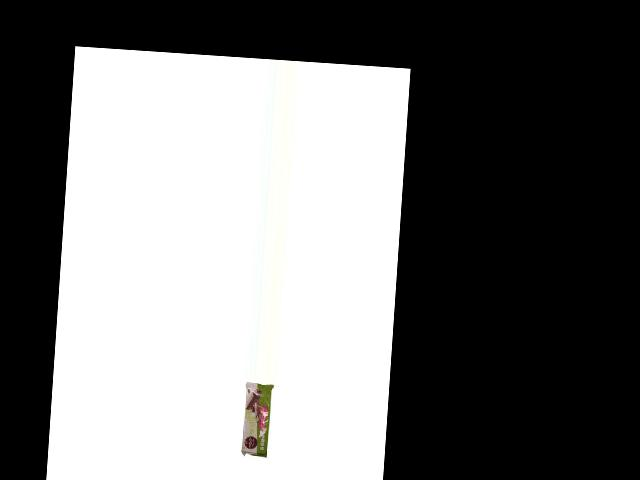chocolate: (237, 382, 273, 460)
